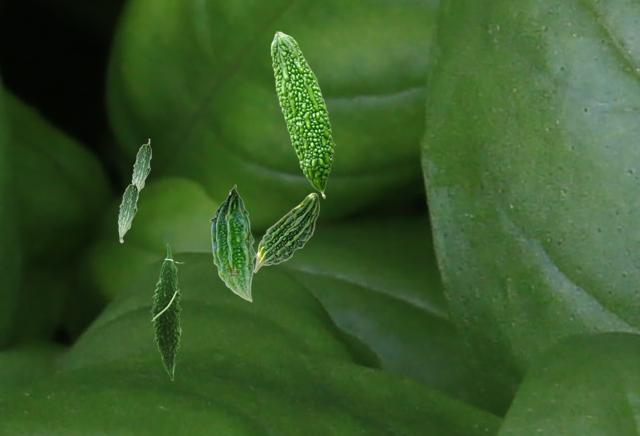ampalaya: (270, 31, 336, 199), (252, 192, 320, 273), (209, 184, 255, 302), (149, 243, 186, 381), (117, 178, 138, 243), (131, 138, 152, 192)
